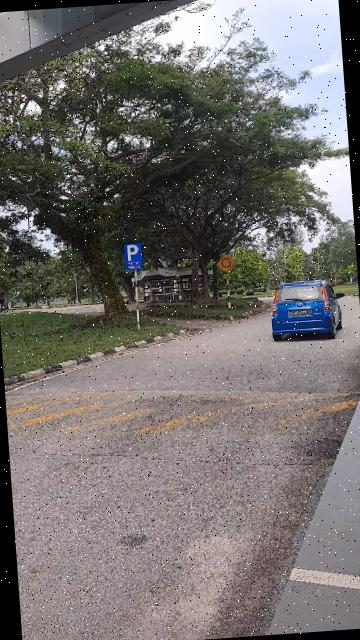License_Plate: (291, 310, 312, 317)
car: (269, 276, 349, 344)
